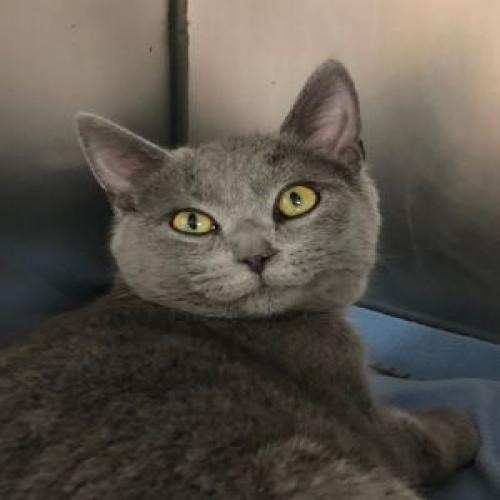rblue: (71, 50, 389, 333)
